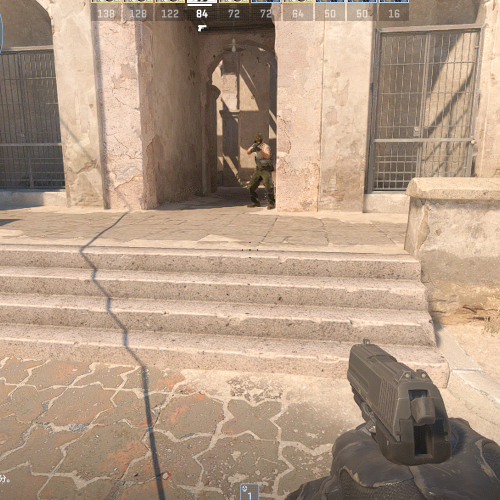t_body: (246, 130, 275, 209)
t_head: (254, 131, 264, 145)
